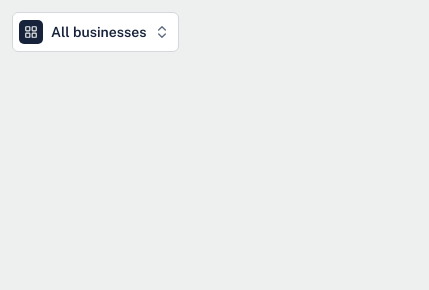
it: BusinessSwitcher › leaves out the owner's group when they have no business yet
Click the button named "Business:".
click(96, 32)  # box [12,12,179,52]
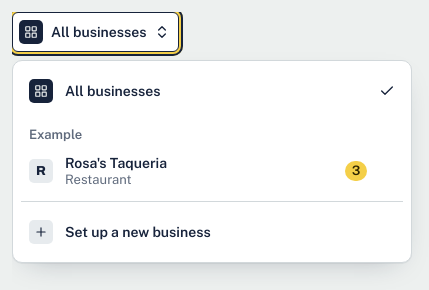
Expected: the list named "Example" is shown, [21,149,403,193]
